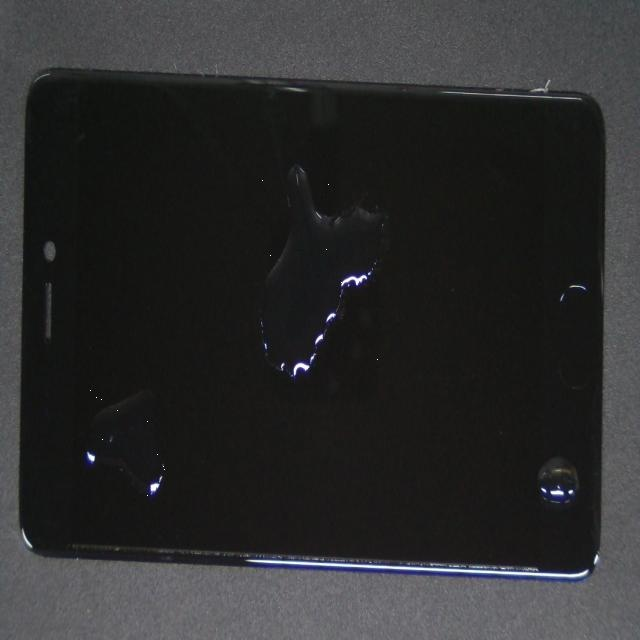oil: (180, 134, 470, 289), (52, 166, 132, 620)
